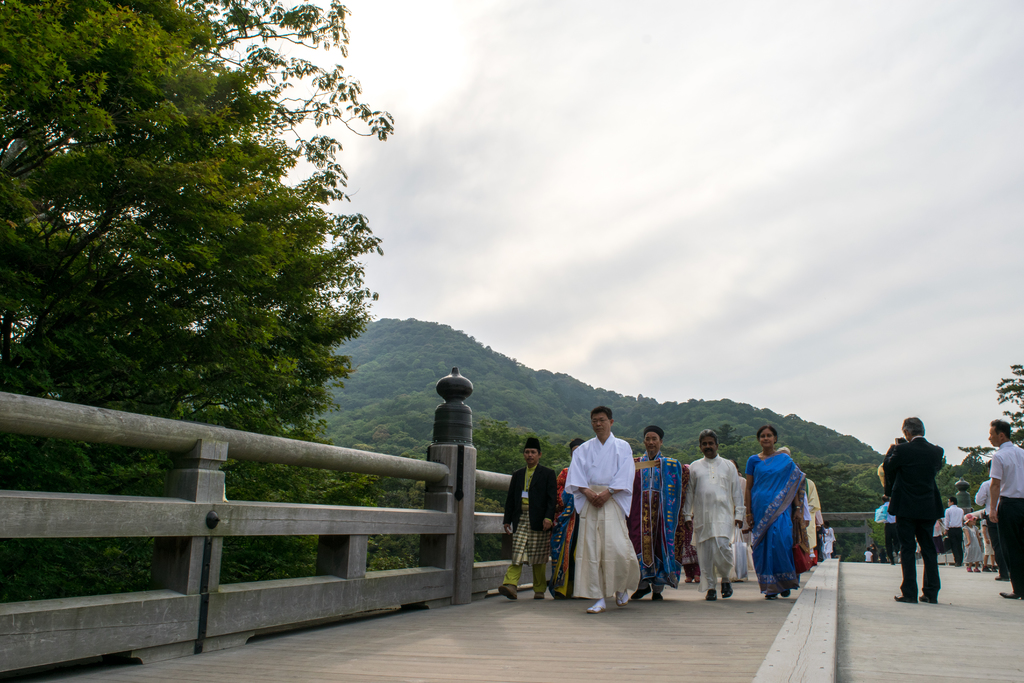Tree: (0, 0, 382, 594), (321, 317, 877, 572), (956, 359, 1023, 459)
